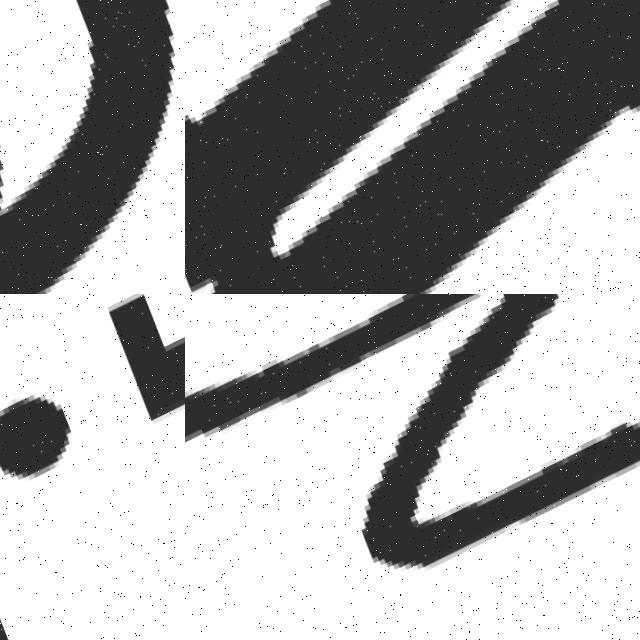9: (0, 0, 185, 294)
H: (371, 294, 640, 565), (185, 294, 498, 441)
I: (0, 294, 185, 565)
N: (185, 0, 640, 294)
